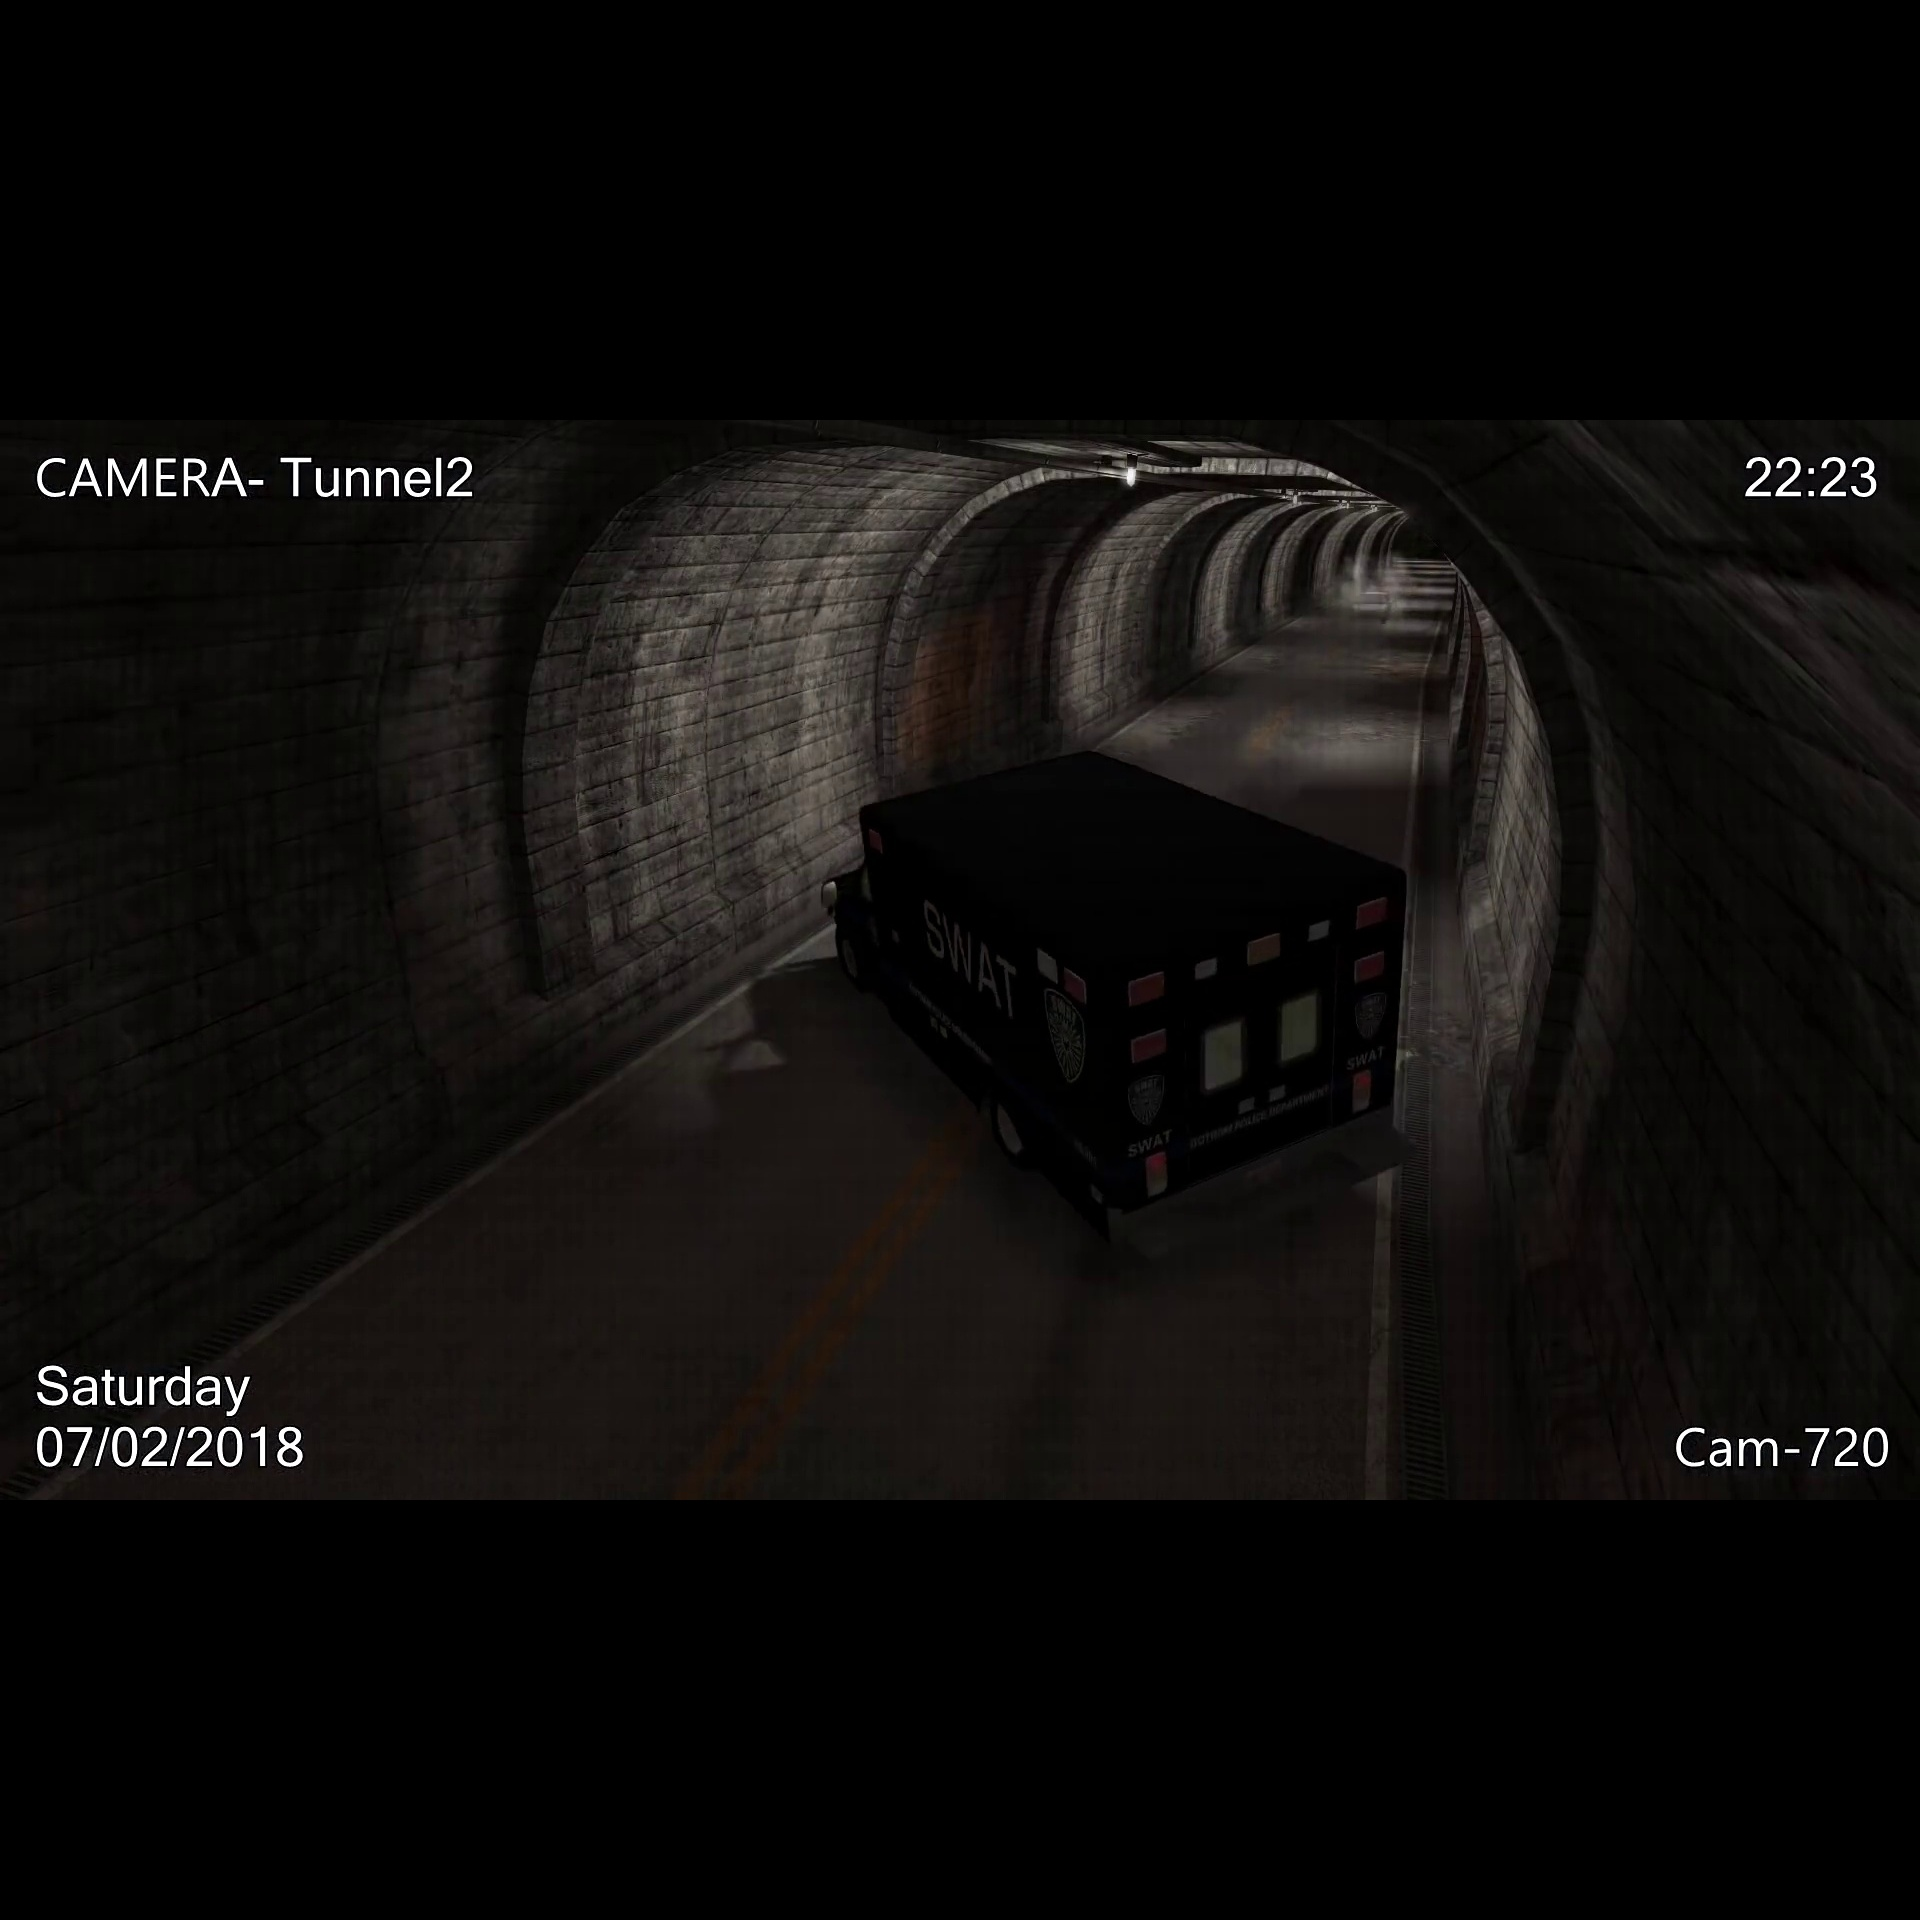vehicle: (826, 751, 1429, 1271), (1349, 587, 1393, 626)
